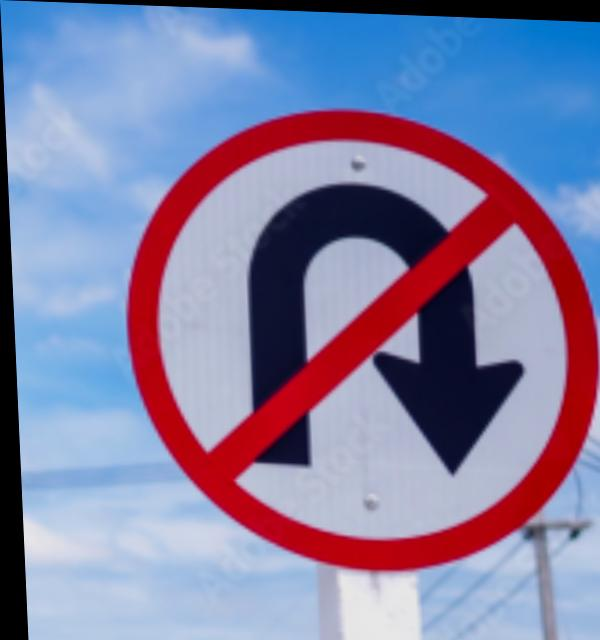not_u_turn_right: (113, 92, 600, 572)
